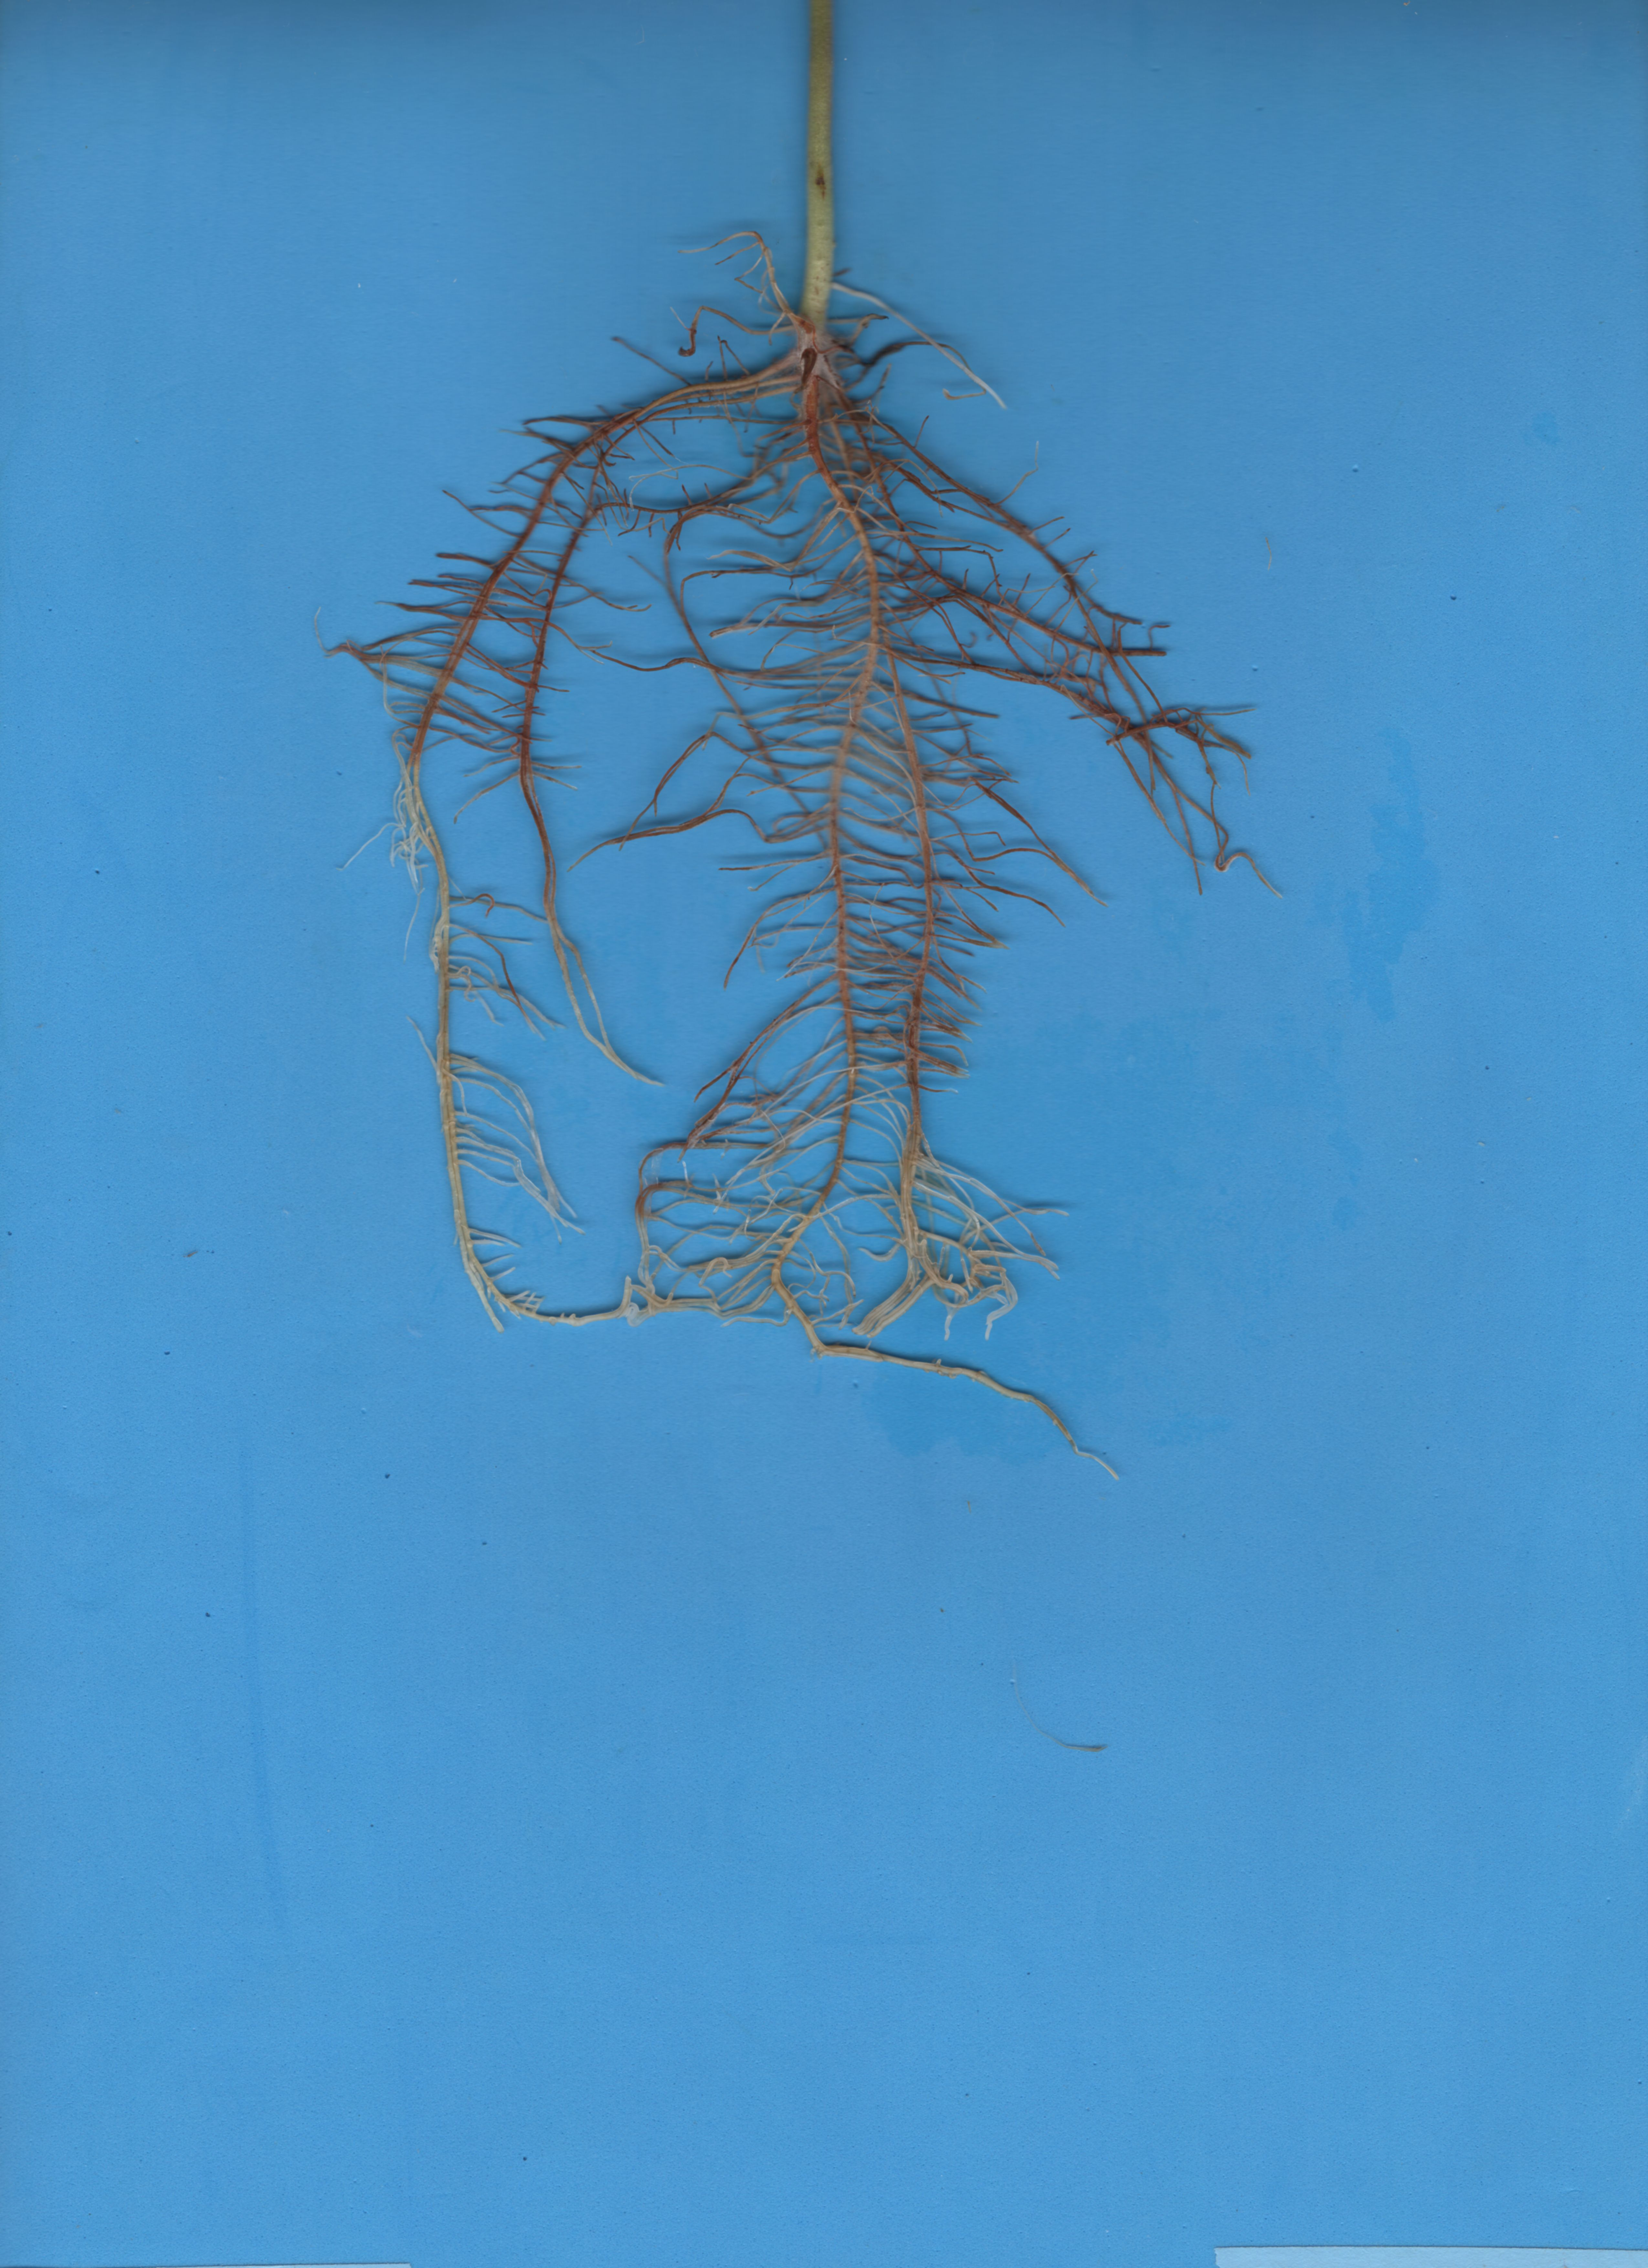CROWNDISEASE: (738, 5, 926, 409)
ROOTDISEASE: (287, 317, 1361, 1521)
